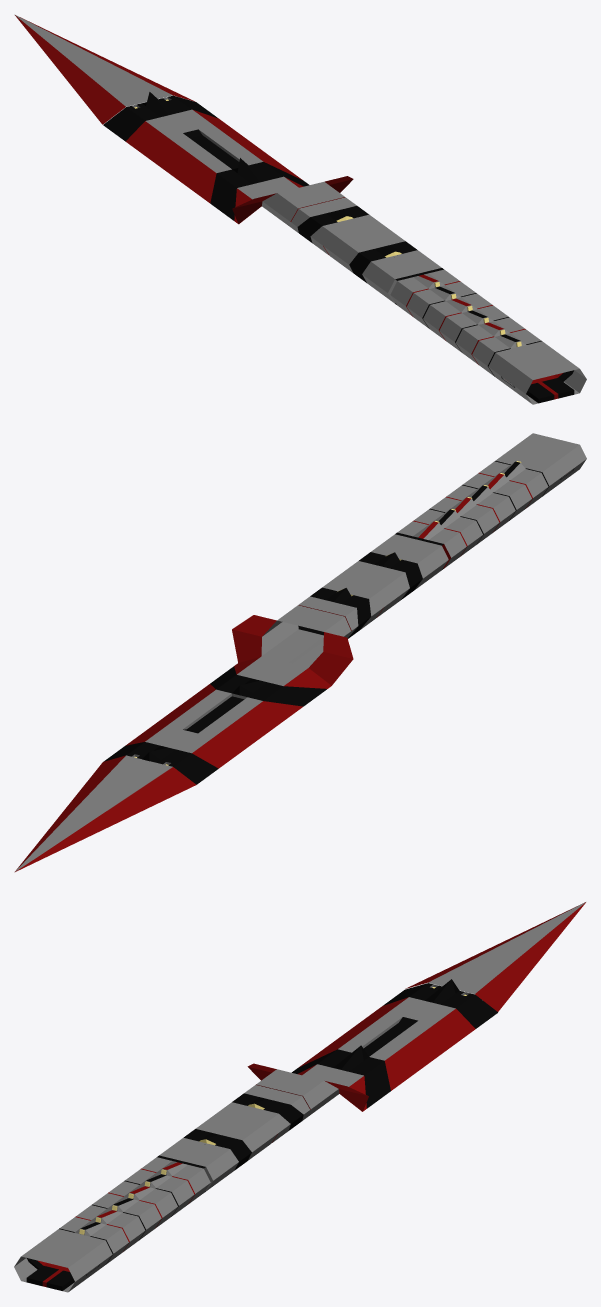
File: Flight1.fbx
The picture shows the model from 3 angles, top to bottom: view 1: azimuth 30°, elevation 25°; view 2: azimuth 150°, elevation 25°; view 3: azimuth 330°, elevation 25°; orthographic projection.
Visible parts, largest first — view 1: Segment3, Segment1, Segment2, Segment4; view 2: Segment2, Segment3, Segment1, Segment4; view 3: Segment3, Segment1, Segment2, Segment4.
Part boxes in pixels (x1,y1,x2,y2): Segment3: (103,92,309,223); Segment1: (390,269,586,404); Segment2: (232,176,443,304); Segment4: (14,14,195,124); Segment2: (232,532,450,685); Segment3: (103,656,331,784); Segment1: (397,433,586,567); Segment4: (14,755,196,872); Segment3: (292,979,497,1111); Segment1: (14,1157,210,1292); Segment2: (157,1063,368,1192); Segment4: (405,902,585,1011).
Bounding box in the file's own units: 518 × 170 × 3999.
